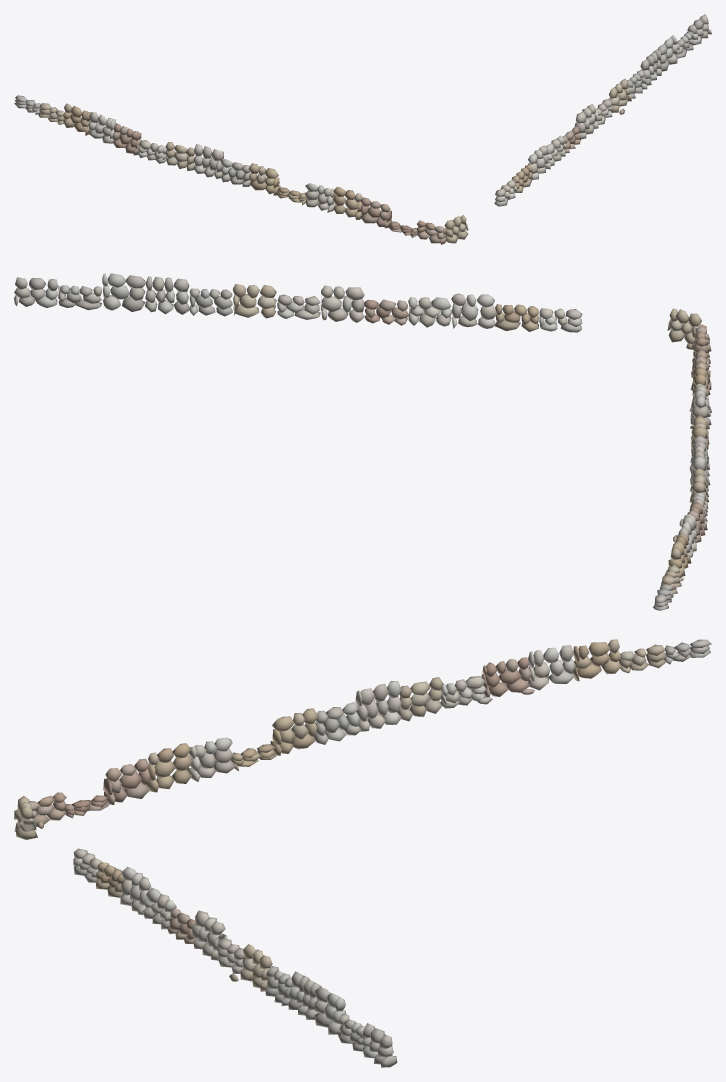
File: farm_-11_9_near.glb
3 renders of one model, top to bottom at view 1: azimuth 30°, elevation 25°; view 2: azimuth 150°, elevation 25°; view 3: azimuth 270°, elevation 25°, orthographic. The views are drawn at different scales.
Parts seen in each view (by area): view 1: geometry_0; view 2: geometry_0; view 3: geometry_0.
Part boxes in pixels (x1,y1,x2,y2): geometry_0: [14, 14, 711, 244]; geometry_0: [14, 273, 711, 610]; geometry_0: [14, 639, 711, 1067].
Size of the model in its own units: 33.43 by 2.7 by 23.04.
